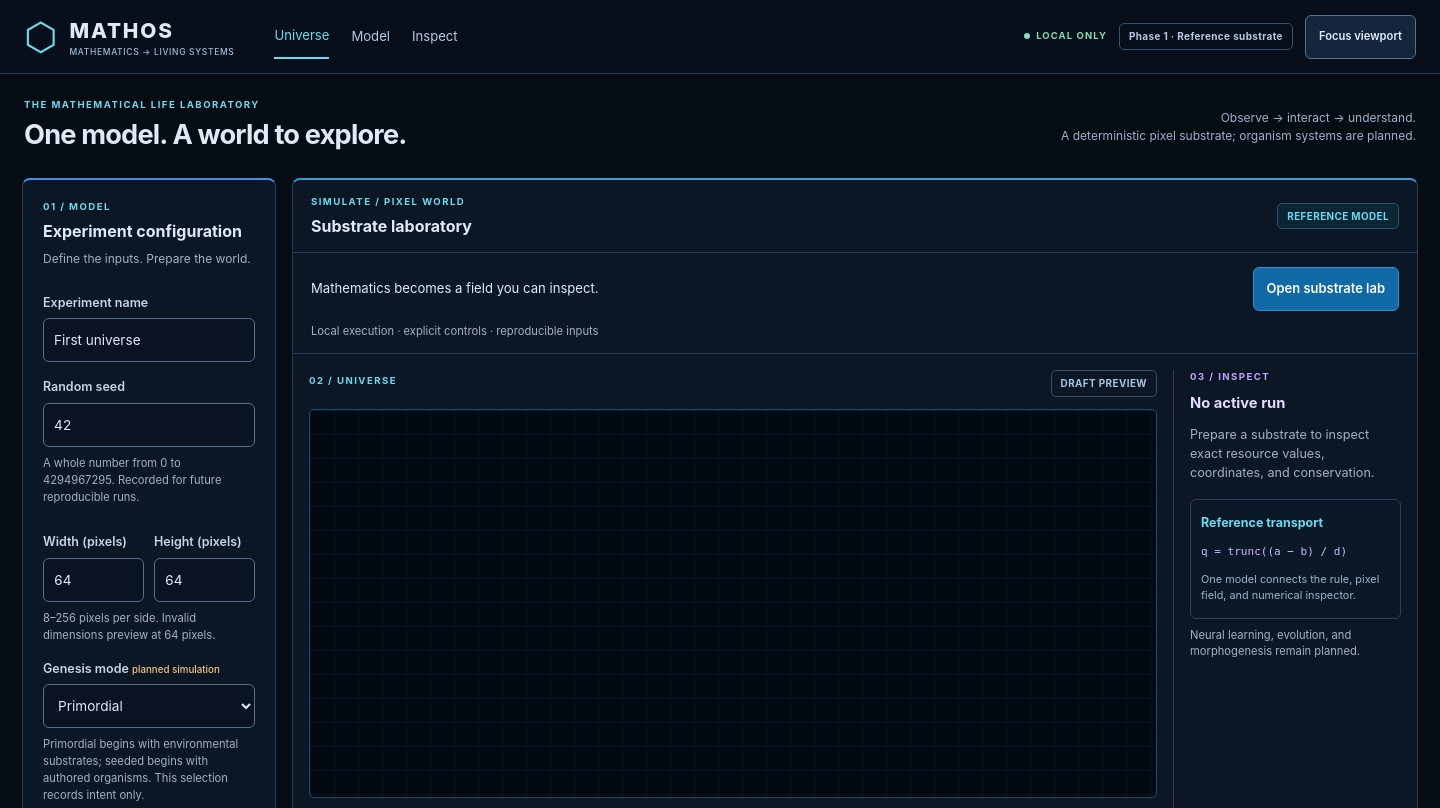
Test case: substrate user workflow › requires explicit preparation, starts paused and keeps the active definition separate from edits
Click the button "Open substrate lab" at {"x": 1326, "y": 289}, box [1252,267,1399,311]
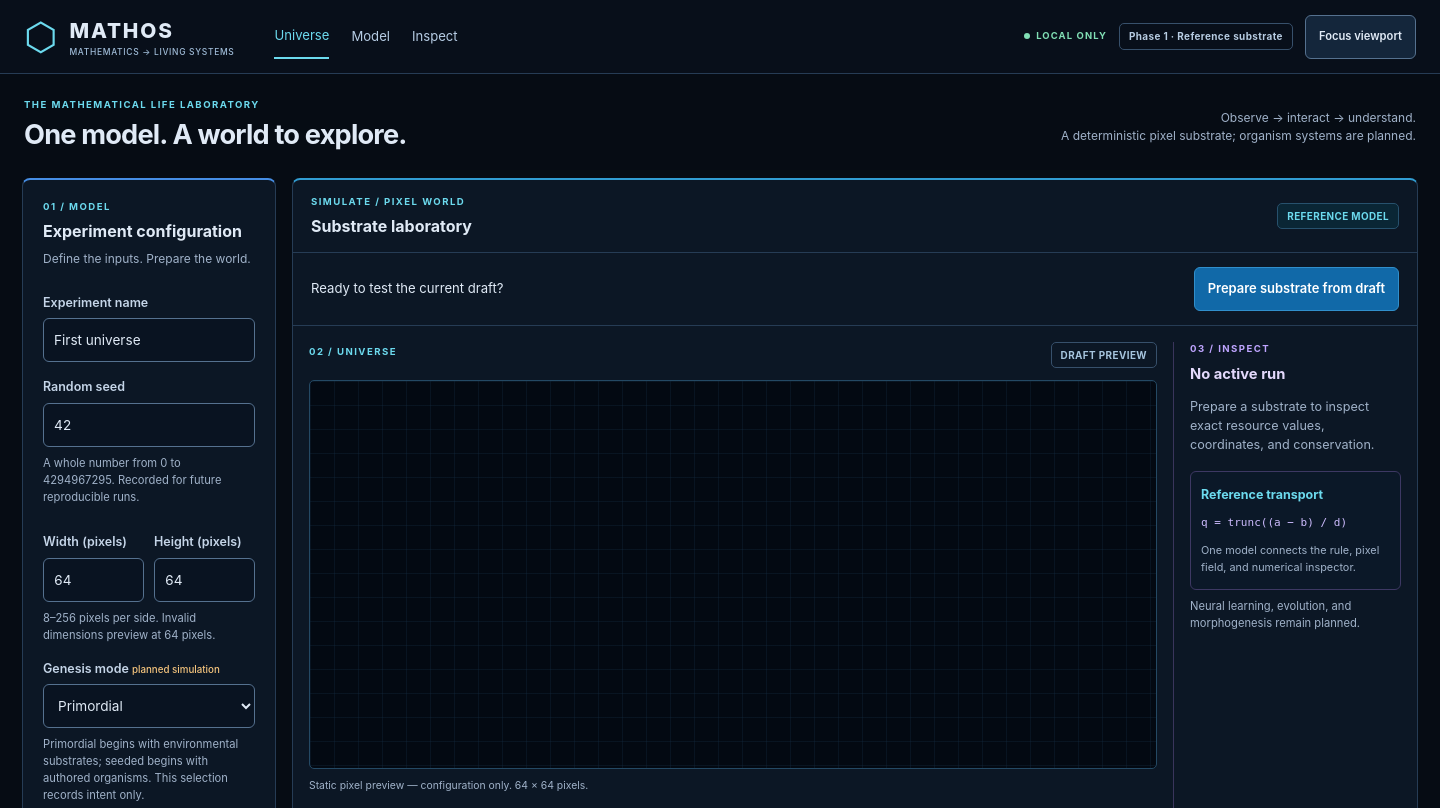
Click the button "Prepare substrate from draft" at {"x": 1296, "y": 289}, box [1194,267,1399,311]
(page scrolled)
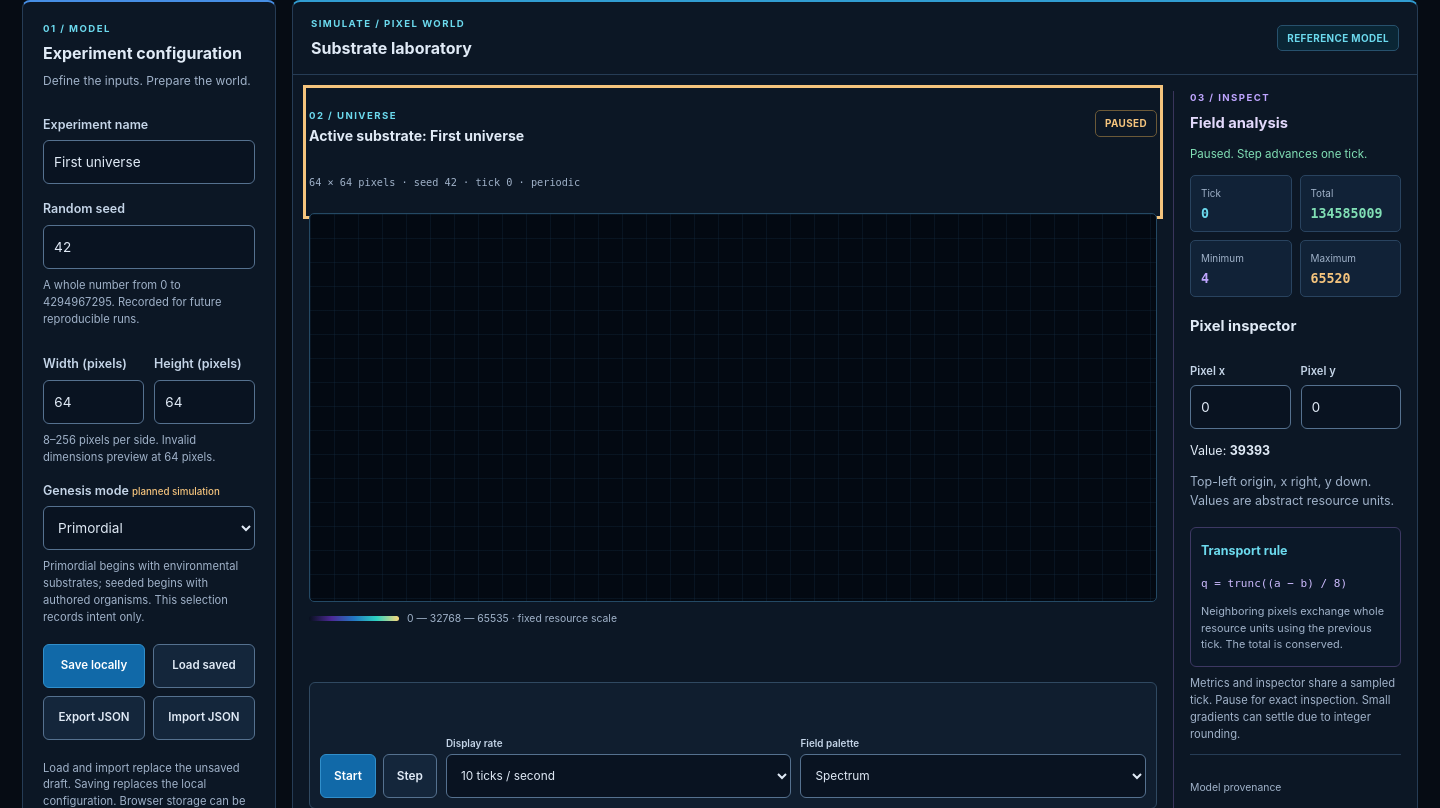
Expected: the text with test id "tick" reads "0", [1201,206,1209,221]
Replace the text in the field labelled "Experiment name" with "Other draft" at {"x": 149, "y": 162}, box [43,140,255,184]
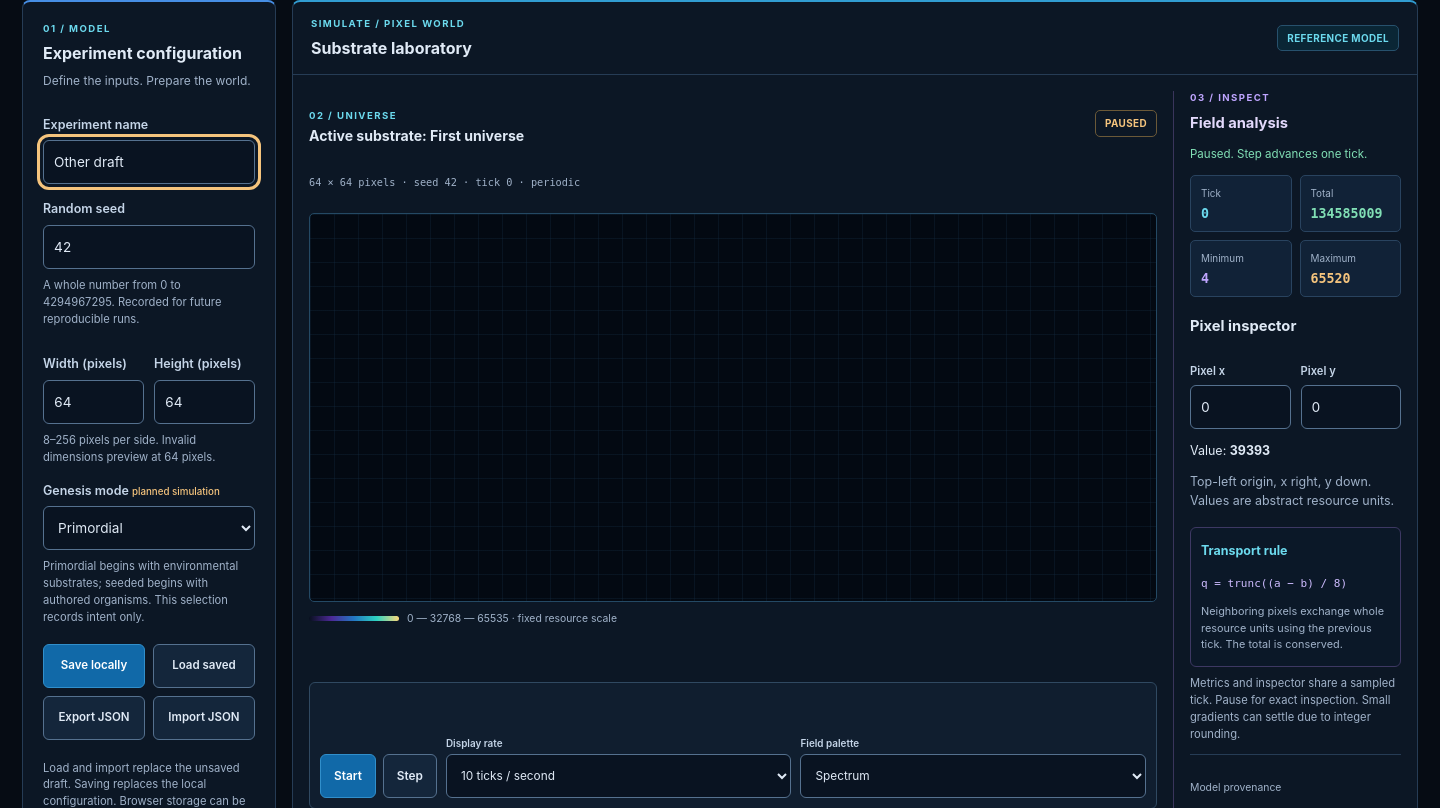
Expected: the heading "Active substrate: First universe" is shown, [309,125,524,146]
Click the button "Step" at {"x": 410, "y": 776}, box [383,754,437,798]
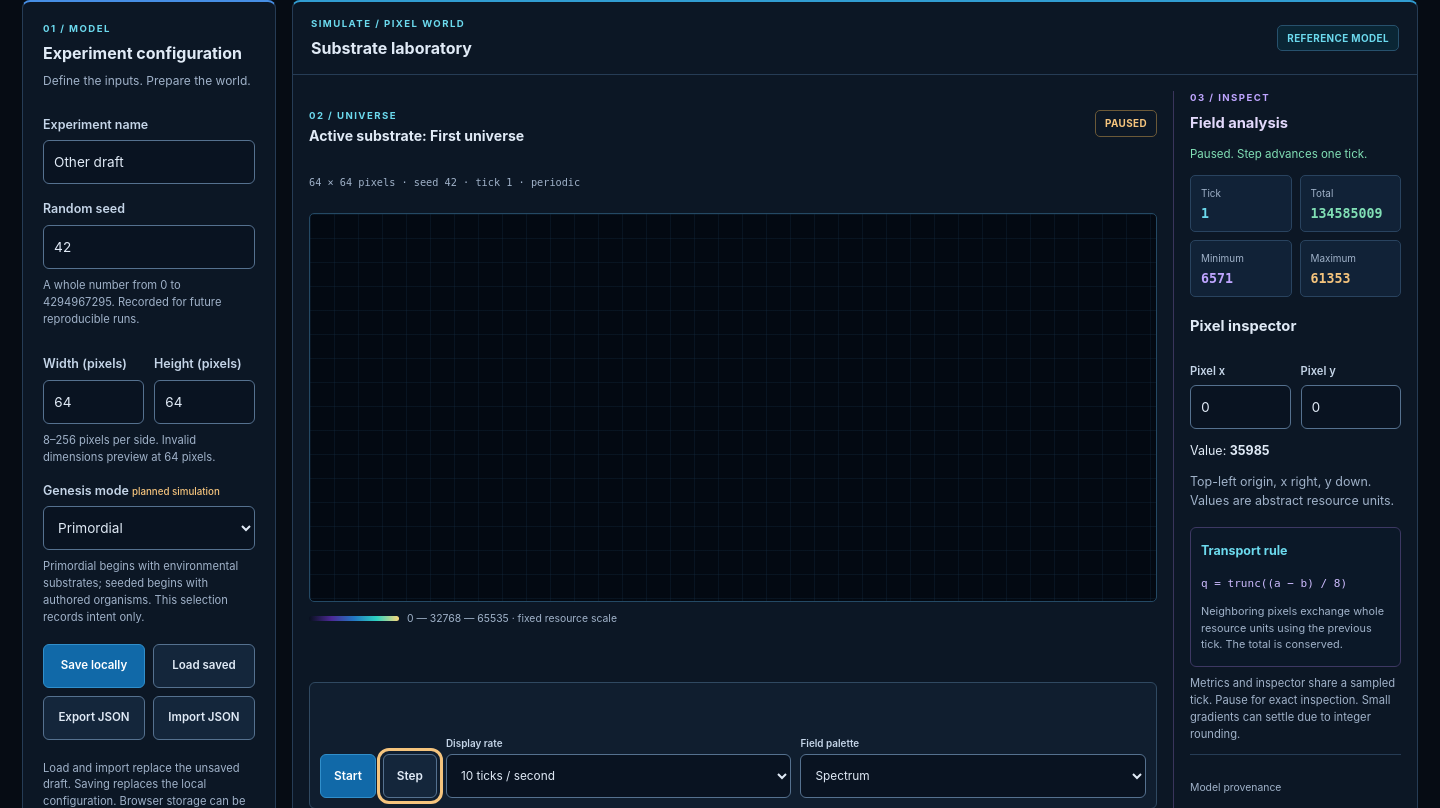
Expected: the text with test id "tick" reads "1", [1201,206,1209,221]
